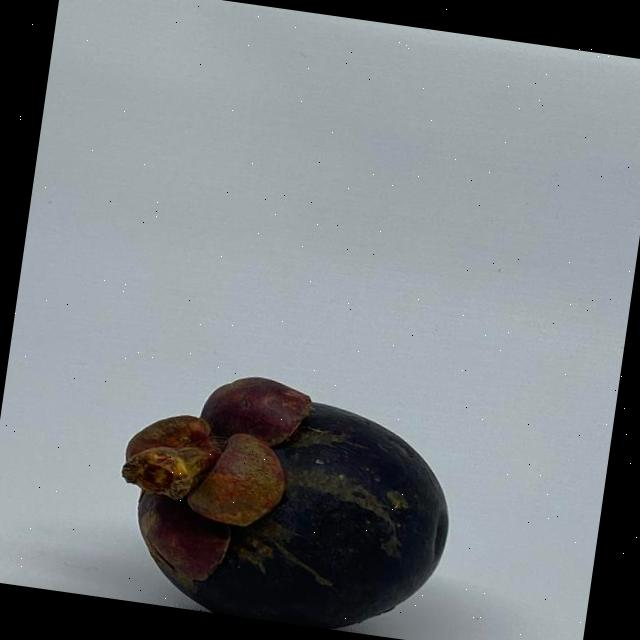mangosteen: (93, 349, 479, 640)
